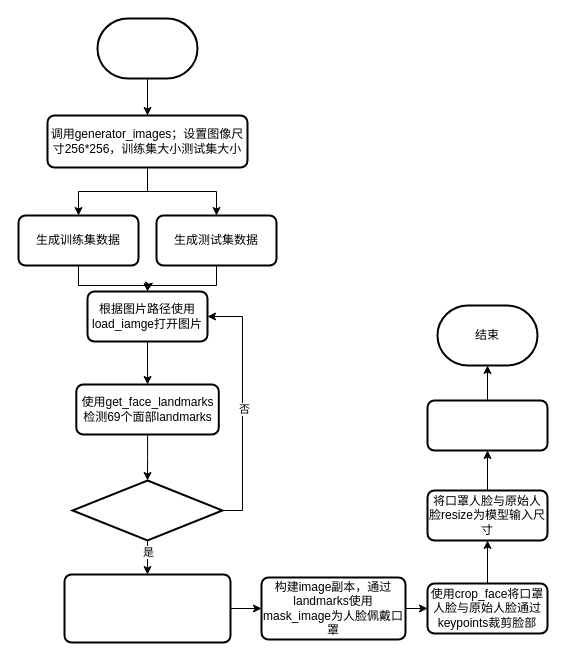
Some shapes in this 565 by 660 pixel diagram are drawn without their labels. The shapes that lost their labels are listed below. From the top down, each one's box as (x1, y1, x2, y2) in pixels, then its label:
(96, 17, 198, 79): 开始
(426, 399, 548, 451): 分别存储口罩人脸与原始人脸图像
(71, 479, 223, 541): 是否检测到人脸标志
(63, 573, 231, 643): 使用face_keypoints_detecting_fun检测人脸keypoints
